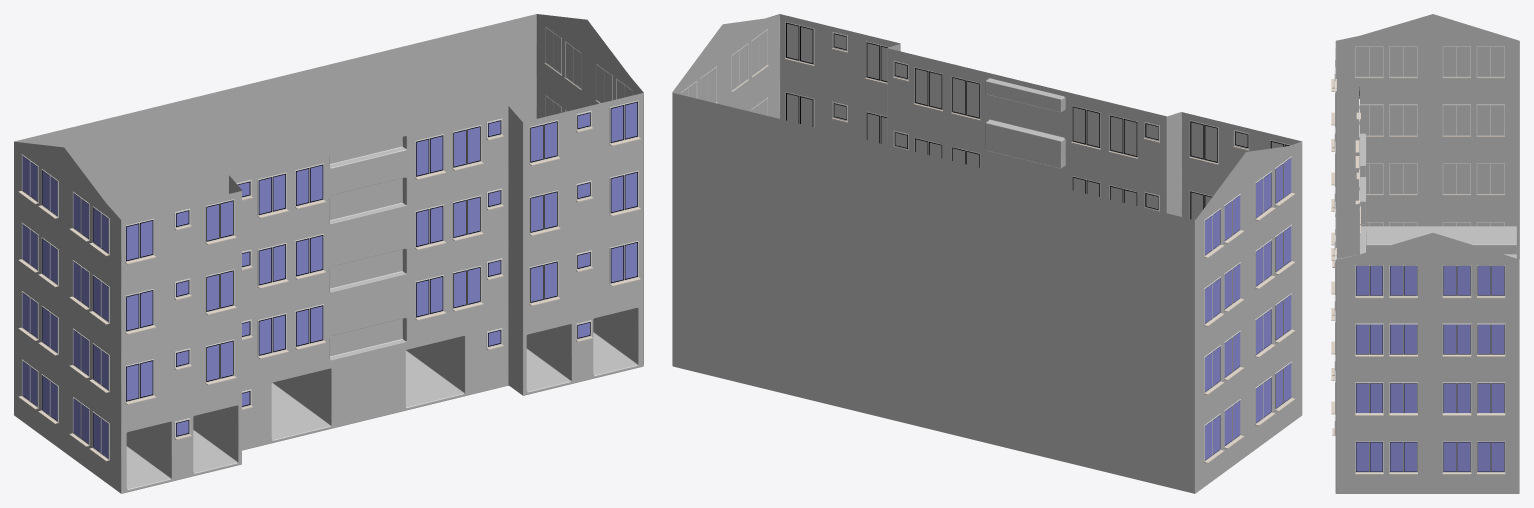
The model's file is condo23aHD.fbx.
The picture shows the model from 3 angles, left to right: view 1: azimuth 30°, elevation 25°; view 2: azimuth 150°, elevation 25°; view 3: azimuth 270°, elevation 25°; orthographic projection. The views are drawn at different scales.
Visible parts, largest first — view 1: bulding; view 2: bulding; view 3: bulding.
Part boxes in pixels (left/top/right/bottom): bulding: left=14, top=14, right=643, bottom=493; bulding: left=672, top=14, right=1302, bottom=493; bulding: left=1331, top=14, right=1519, bottom=493.
Size of the model in its own units: 1591 by 874 by 571.
